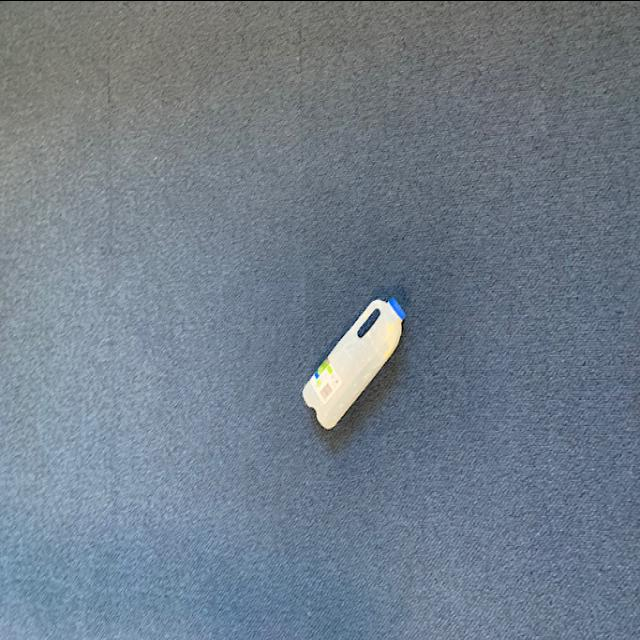litter: (302, 291, 412, 430)
